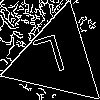L: (31, 34, 71, 86)
